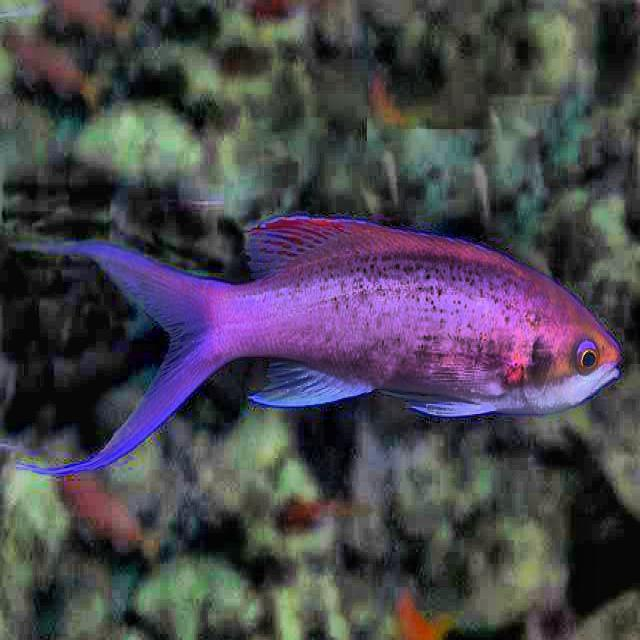fish: (15, 214, 624, 475)
